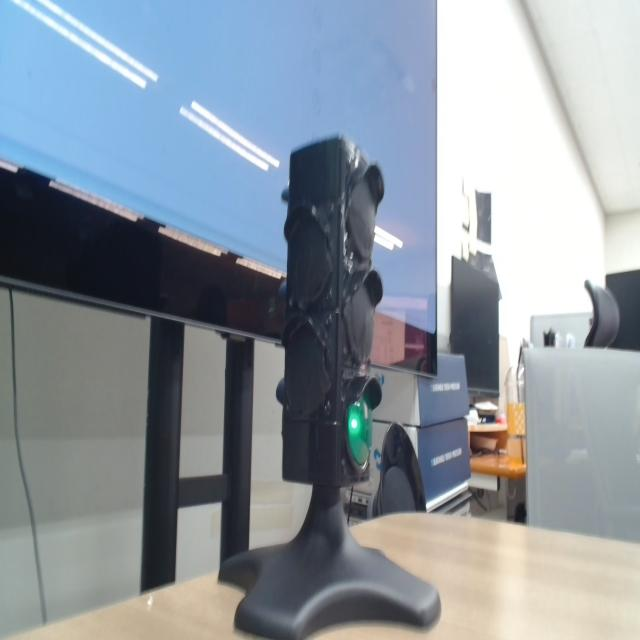green_light: (347, 396, 372, 466)
